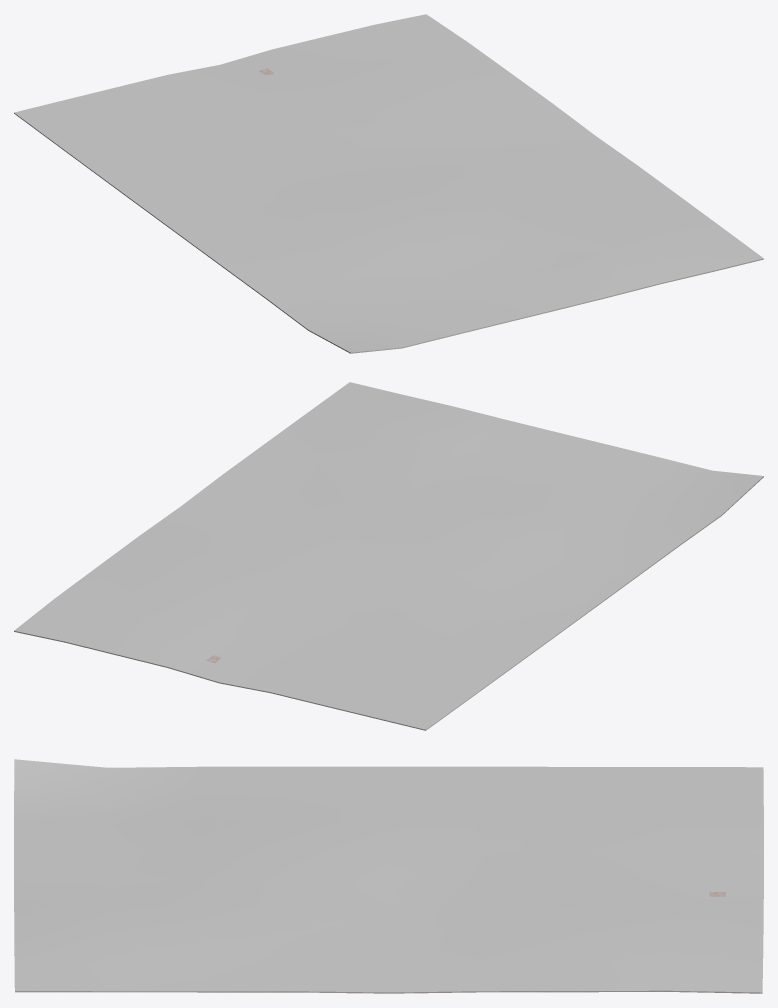
File: pastLoreLetter.fbx
The picture shows the model from 3 angles, top to bottom: view 1: azimuth 30°, elevation 25°; view 2: azimuth 150°, elevation 25°; view 3: azimuth 270°, elevation 25°; orthographic projection. The views are drawn at different scales.
Visible parts, largest first — view 1: pastLoreLetter; view 2: pastLoreLetter; view 3: pastLoreLetter.
Part boxes in pixels (x1=…): pastLoreLetter: x1=14, y1=14, x2=763, y2=353; pastLoreLetter: x1=14, y1=382, x2=763, y2=730; pastLoreLetter: x1=14, y1=759, x2=763, y2=993.
Bounding box in the file's own units: 1.09 × 0.0268 × 1.54.
